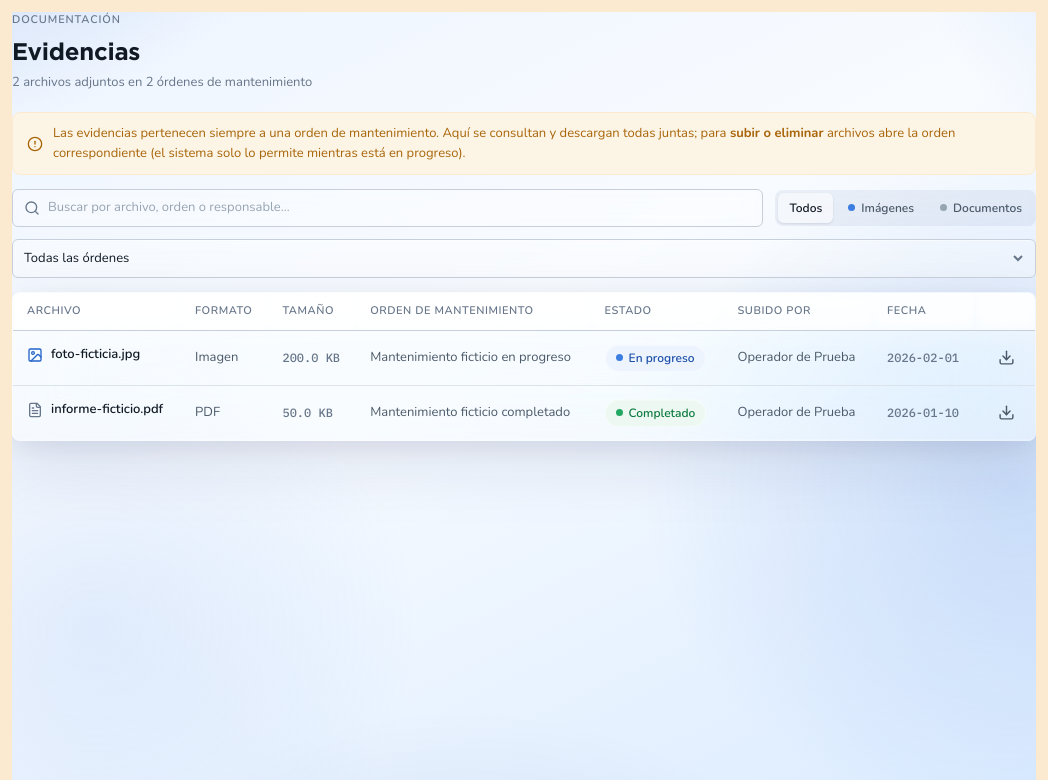
Scenario: EvidencesInfo (/evidencias) › el buscador filtra por nombre de archivo
The width and height of the screenshot is (1048, 780).
Expected: the text "foto-ficticia.jpg" is shown, [27, 345, 140, 365]
In the field with placeholder "Buscar por archivo, orden o responsable…": (400, 208) [48, 198, 751, 218], type "informe"
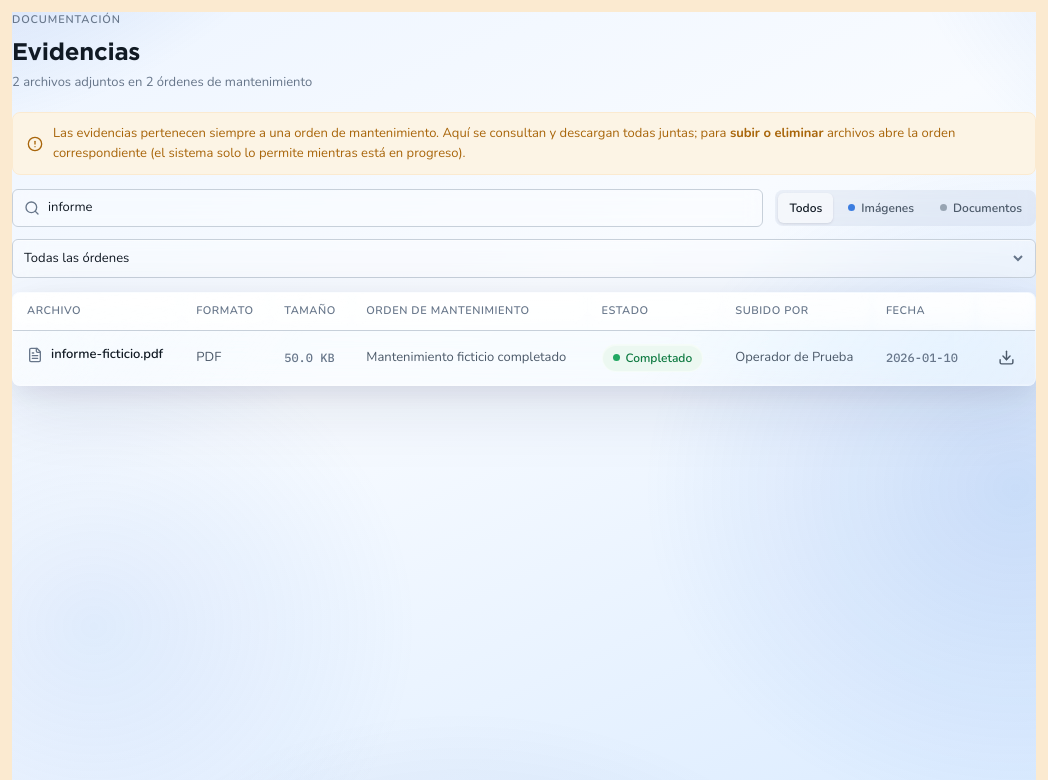
Expected: the text "informe-ficticio.pdf" is shown, [27, 345, 163, 365]
Result: the text "foto-ficticia.jpg" is gone
